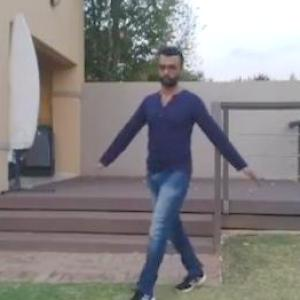land: (107, 50, 256, 294)
